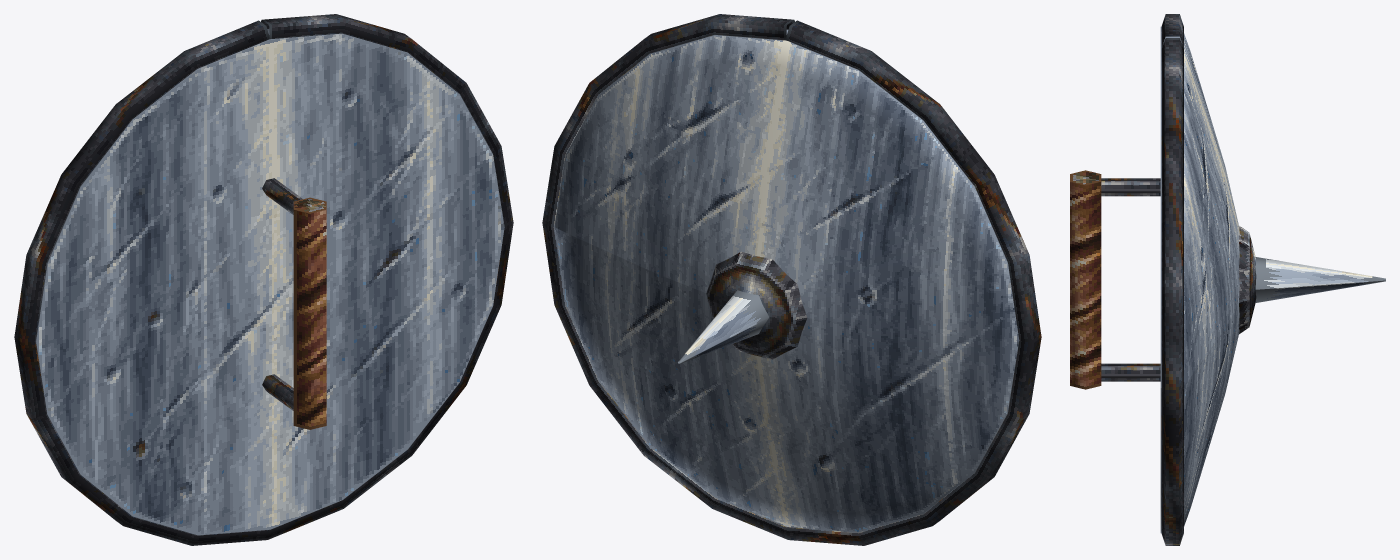
The model's file is spiked_buckler.glb.
3 renders of one model, left to right at view 1: azimuth 30°, elevation 25°; view 2: azimuth 150°, elevation 25°; view 3: azimuth 270°, elevation 25°, orthographic. The views are drawn at different scales.
Parts seen in each view (by area): view 1: spiked_buckler; view 2: spiked_buckler; view 3: spiked_buckler.
Part boxes in pixels (x1,y1,x2,y2): spiked_buckler: (14,14,513,545); spiked_buckler: (542,14,1041,545); spiked_buckler: (1070,14,1385,545).
Bounding box in the file's own units: 0.3569 × 0.3569 × 0.2104.
Materials: 1 (1 with a texture image).
